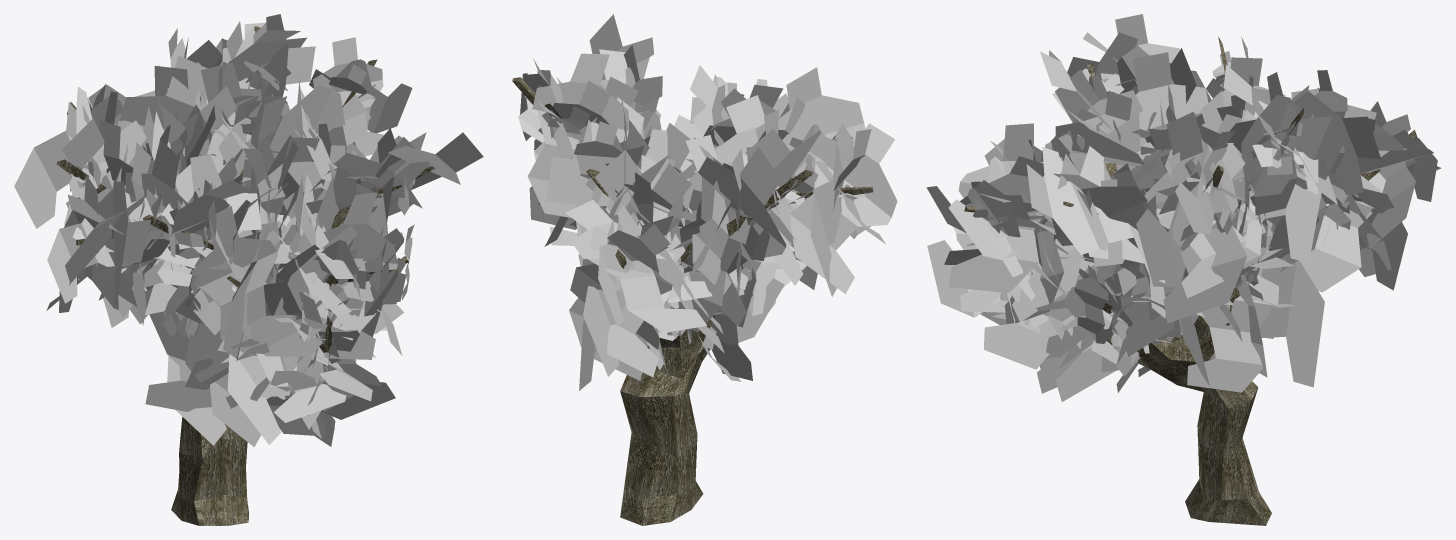
The model's file is Arbol_03.fbx.
3 views of the same model, side by side, from view 1: azimuth 30°, elevation 25°; view 2: azimuth 150°, elevation 25°; view 3: azimuth 270°, elevation 25° (orthographic). The views are drawn at different scales.
Visible parts, largest first — view 1: Tree_Cañada01.001; view 2: Tree_Cañada01.001; view 3: Tree_Cañada01.001.
Boxes of the visible parts, box(x1,y1,x2,y2) form: Tree_Cañada01.001: box(14, 14, 483, 525); Tree_Cañada01.001: box(512, 14, 897, 525); Tree_Cañada01.001: box(926, 14, 1441, 525).
Bounding box in the file's own units: 23.35 × 28.19 × 27.59.
